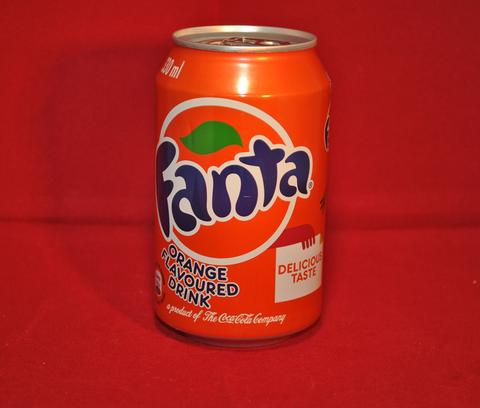fanta_can: (151, 24, 329, 345)
